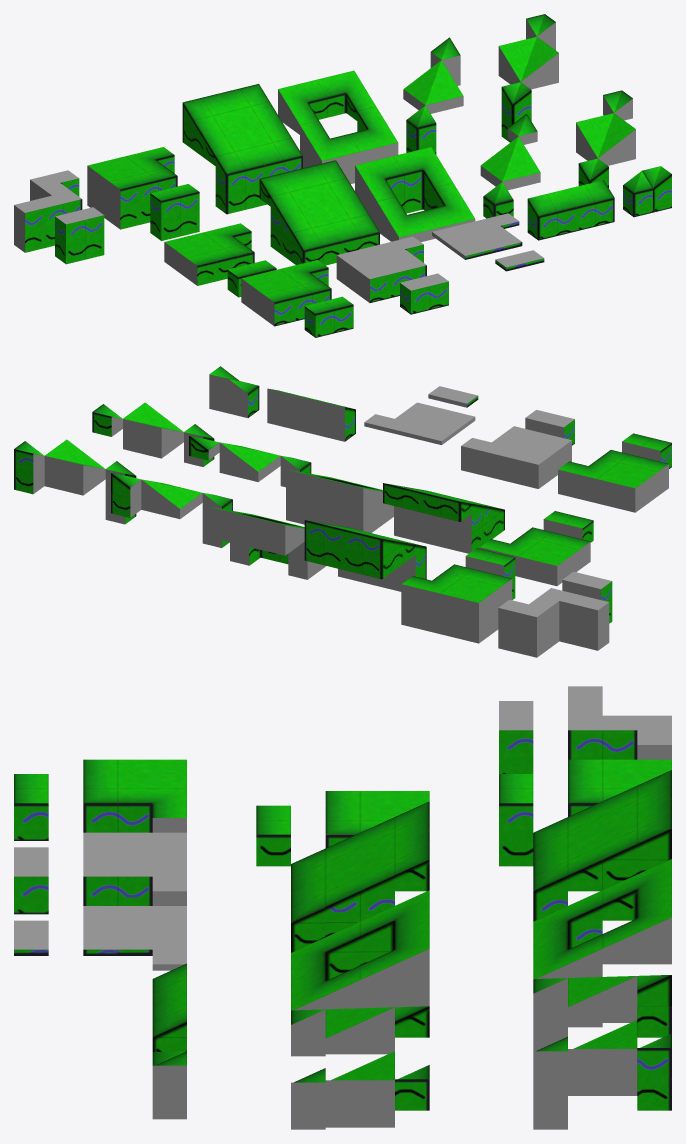
The model's file is tileset_template.dae.
3 views of the same model, one above another, from view 1: azimuth 30°, elevation 25°; view 2: azimuth 150°, elevation 25°; view 3: azimuth 270°, elevation 25° (orthographic). The views are drawn at different scales.
Parts seen in each view (by area): view 1: TMP_T_slope_cave, TMP_TH_slope_cave, TMP_slope_cave_4, TMP_T_side, TMP_slope_cave_3, TMP_slope_cave_5, TMP_wall, TMP_TH_slope_vex, TMP_T_slope_vex, TMP_slope_cave_7, TMP_slope_cave_1, TMP_slope_cave_6 (+55 smaller); view 2: TMP_T, TMP_wall_corner_cave, TMP_slope_cave_3, TMP_wall, TMP_TB, TMP_T_slope_cave, TMP_BH, TMP_TH_slope_cave, TMP_T_corner_cave, TMP_TH, TMP_slope_cave_4, TMP_TH_slope_vex (+49 smaller); view 3: TMP_slope_cave_4, TMP_TH_slope_cave, TMP_T_slope_cave, TMP_slope_cave_8, TMP_TH_slope_vex, TMP_T_slope_vex, TMP_TH_slope_6, TMP_wall_corner_cave, TMP_TB_corner_cave, TMP_BH_corner_cave, TMP_T_slope_cave_corner_B, TMP_T_slope_6 (+52 smaller).
Part boxes in pixels (box(x1,y1,x2,y2)): TMP_T_slope_cave: box(498, 36, 558, 89); TMP_TH_slope_cave: box(576, 113, 635, 165); TMP_slope_cave_4: box(393, 147, 452, 213); TMP_T_side: box(109, 172, 158, 229); TMP_slope_cave_3: box(355, 156, 404, 226); TMP_slope_cave_5: box(300, 120, 360, 183); TMP_wall: box(14, 195, 62, 252); TMP_TH_slope_vex: box(480, 136, 540, 190); TMP_T_slope_vex: box(403, 60, 463, 113); TMP_slope_cave_7: box(278, 80, 327, 134); TMP_slope_cave_1: box(377, 197, 437, 241); TMP_slope_cave_6: box(349, 106, 398, 163); TMP_T: box(440, 577, 501, 643); TMP_wall_corner_cave: box(498, 596, 559, 657); TMP_slope_cave_3: box(324, 479, 385, 532); TMP_wall: box(559, 592, 609, 650); TMP_TB: box(596, 462, 657, 512); TMP_T_slope_cave: box(44, 439, 105, 495); TMP_BH: box(500, 439, 560, 488); TMP_TH_slope_cave: box(123, 402, 183, 458); TMP_T_corner_cave: box(401, 572, 461, 633); TMP_TH: box(518, 540, 579, 586); TMP_slope_cave_4: box(286, 469, 332, 524); TMP_TH_slope_vex: box(219, 442, 280, 482); TMP_slope_cave_4: box(360, 919, 429, 1008); TMP_TH_slope_cave: box(325, 1051, 394, 1127); TMP_T_slope_cave: box(568, 1020, 637, 1095); TMP_slope_cave_8: box(602, 888, 671, 964); TMP_TH_slope_vex: box(325, 1007, 394, 1054); TMP_T_slope_vex: box(568, 976, 637, 1022); TMP_TH_slope_6: box(325, 861, 394, 936); TMP_wall_corner_cave: box(602, 715, 671, 759); TMP_TB_corner_cave: box(118, 788, 186, 832); TMP_BH_corner_cave: box(118, 862, 186, 905); TMP_T_slope_cave_corner_B: box(533, 1036, 567, 1129); TMP_T_slope_6: box(568, 830, 637, 891).
Size of the model in its own units: 29 by 19 by 4.
Materials: 1 (1 with a texture image).
